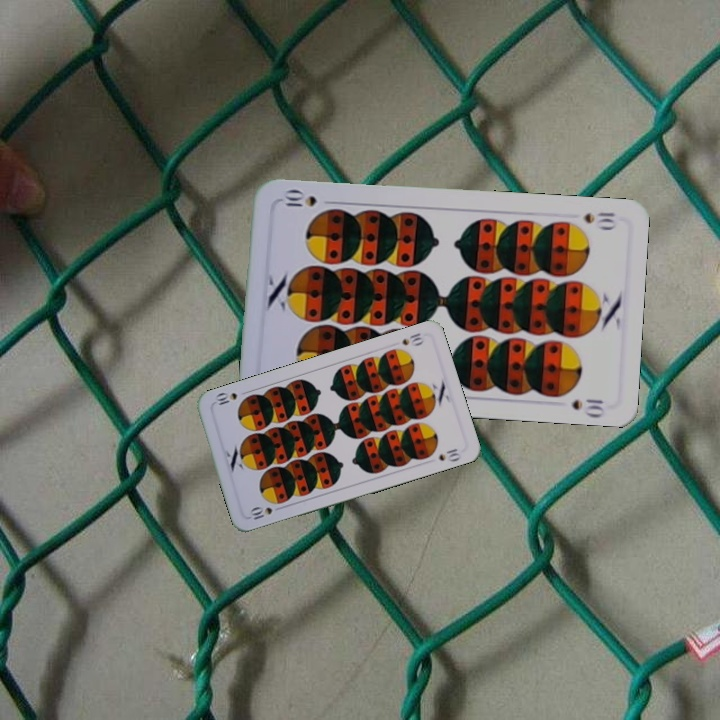S10: (579, 208, 618, 232), (246, 502, 285, 522), (398, 329, 426, 348)
